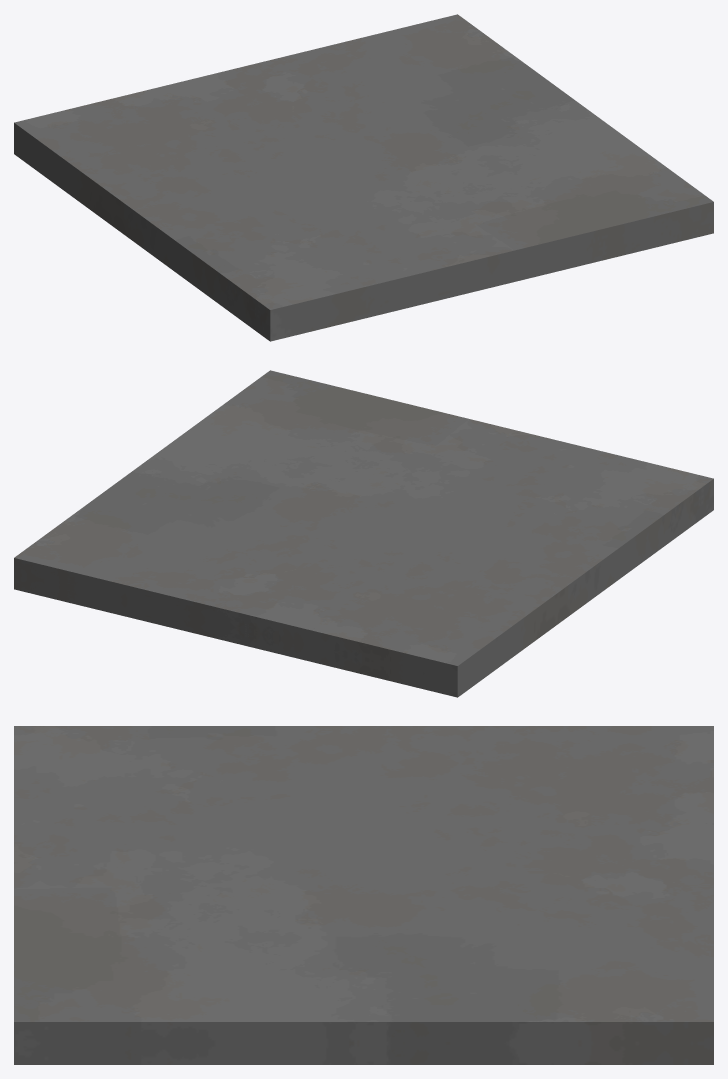
File: Env_Floor_04.fbx
The picture shows the model from 3 angles, top to bottom: view 1: azimuth 30°, elevation 25°; view 2: azimuth 150°, elevation 25°; view 3: azimuth 270°, elevation 25°; orthographic projection. The views are drawn at different scales.
Parts seen in each view (by area): view 1: Env_Floor_04; view 2: Env_Floor_04; view 3: Env_Floor_04.
Part boxes in pixels (x1=…): Env_Floor_04: x1=14, y1=14, x2=713, y2=341; Env_Floor_04: x1=14, y1=370, x2=713, y2=697; Env_Floor_04: x1=14, y1=726, x2=713, y2=1064.
Bounding box in the file's own units: 150 × 10.17 × 150.
